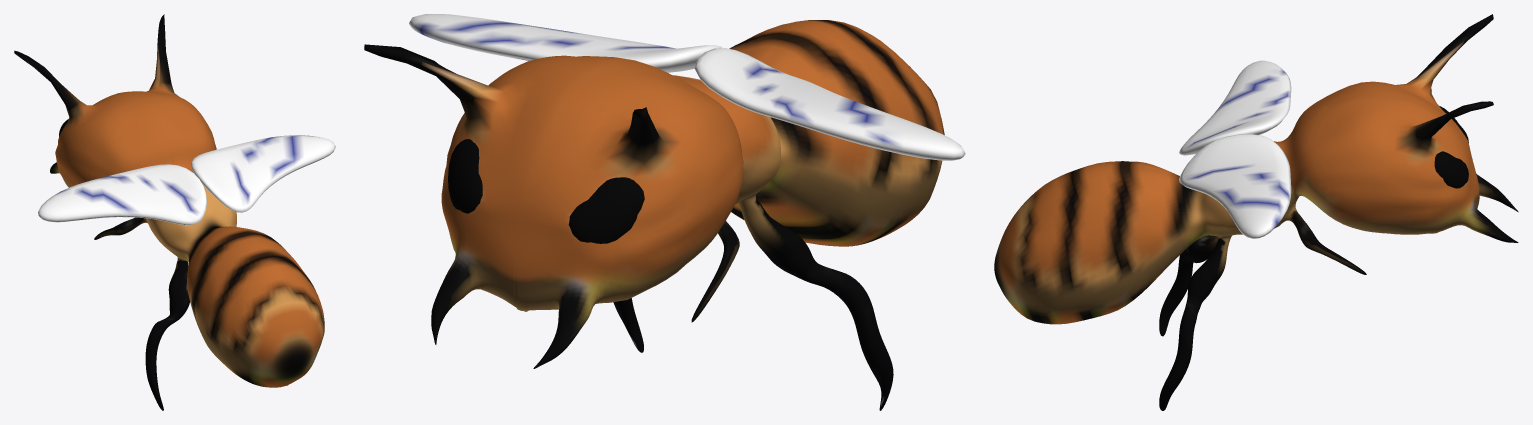
The model's file is bee.fbx.
The picture shows the model from 3 angles, left to right: view 1: azimuth 30°, elevation 25°; view 2: azimuth 150°, elevation 25°; view 3: azimuth 270°, elevation 25°; orthographic projection. The views are drawn at different scales.
Parts seen in each view (by area): view 1: Cube.001, Plane; view 2: Cube.001, Plane, Sphere; view 3: Cube.001, Plane, Sphere.
Part boxes in pixels (left/top/right/bottom): Cube.001: left=14, top=14, right=324, bottom=410; Plane: left=38, top=135, right=335, bottom=225; Cube.001: left=364, top=20, right=944, bottom=410; Plane: left=409, top=14, right=965, bottom=160; Sphere: left=448, top=139, right=644, bottom=243; Cube.001: left=994, top=14, right=1518, bottom=410; Plane: left=1179, top=60, right=1291, bottom=238; Sphere: left=1434, top=106, right=1468, bottom=188.
Bounding box in the file's own units: 165 × 140 × 211.
